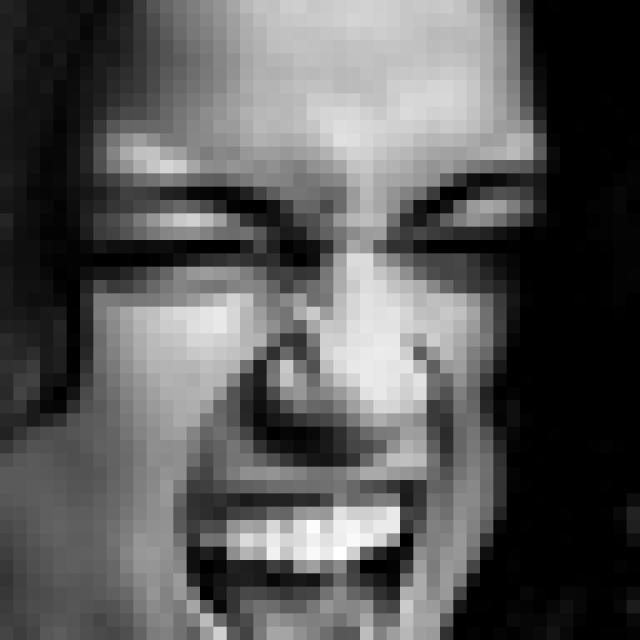angry: (89, 167, 552, 640)
